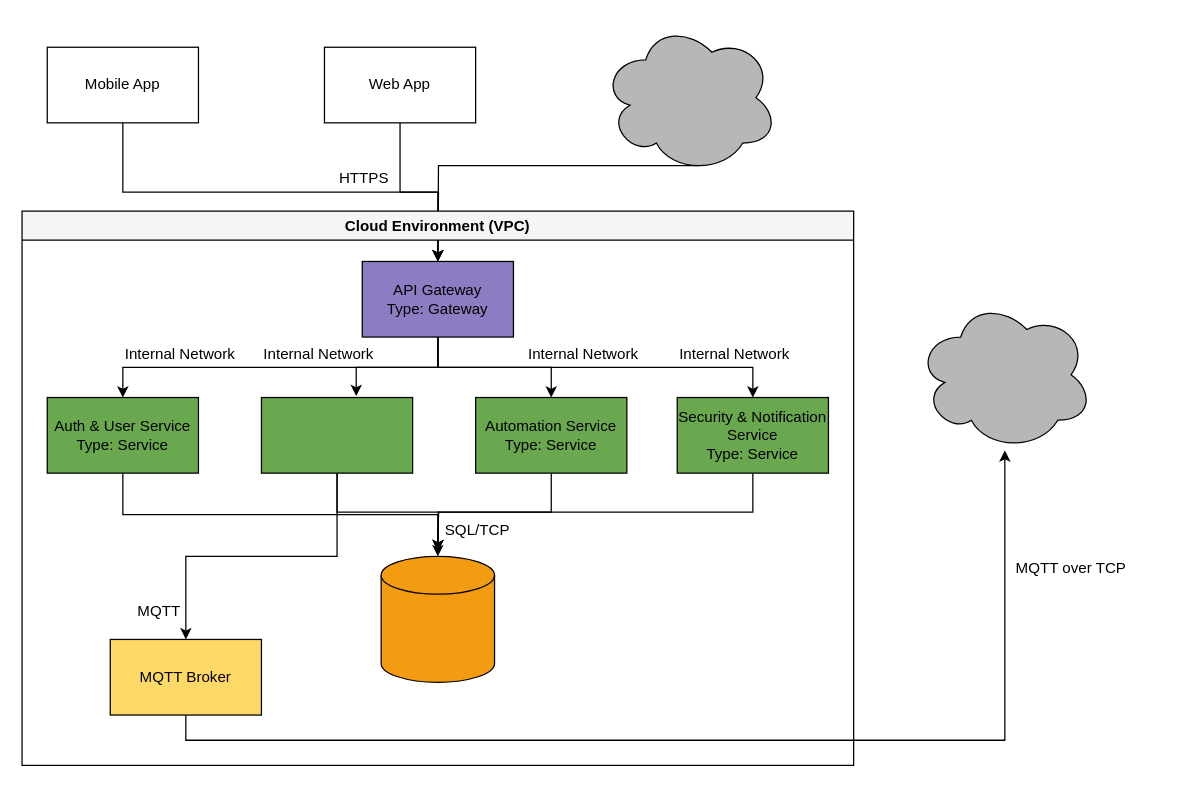
This 1187x788 diagram has some shape labels left out. Here are the shapes that lost their labels. From the top down, the centre of each, then its label:
At (x=689, y=97): "Voice Assistant".
At (x=1004, y=374): "Smart Devices".
At (x=336, y=434): "Device Management Service Type: Service".
At (x=437, y=618): "Database Type: Database".
